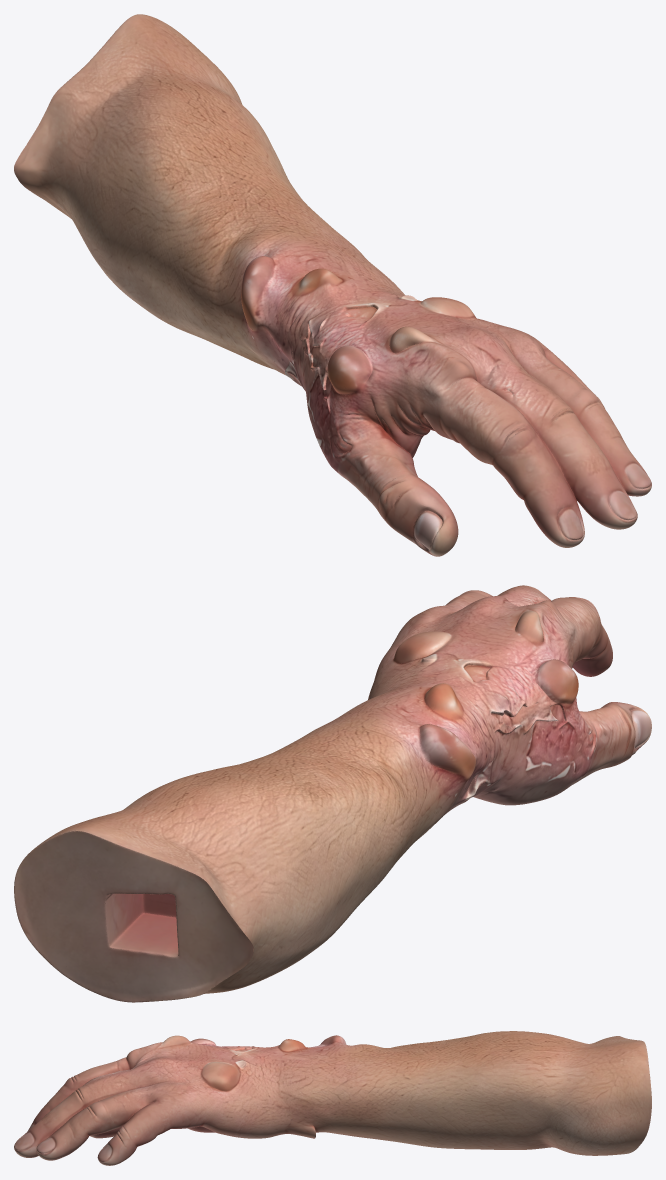
Rendered from base_basic_pbr.glb.
3 views of the same model, one above another, from view 1: azimuth 30°, elevation 25°; view 2: azimuth 150°, elevation 25°; view 3: azimuth 270°, elevation 25° (orthographic). The views are drawn at different scales.
Parts seen in each view (by area): view 1: model; view 2: model; view 3: model.
Part boxes in pixels (left/top/right/bottom): model: left=14, top=14, right=651, bottom=556; model: left=14, top=585, right=651, bottom=1002; model: left=14, top=1031, right=651, bottom=1165.
Size of the model in its own units: 0.5099 by 0.4345 by 1.9.
1 material, 1 textured.
